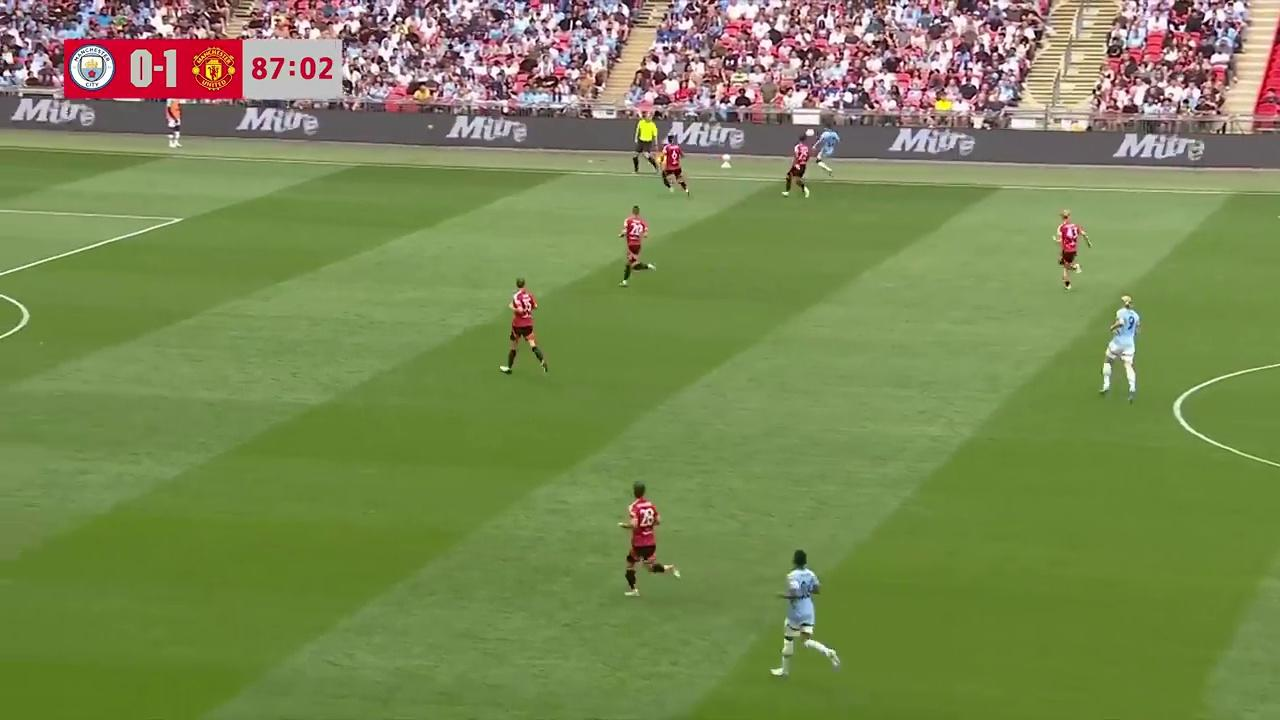player: (770, 548, 840, 677), (618, 482, 682, 597), (500, 278, 549, 377), (1105, 295, 1140, 388), (617, 204, 653, 287), (1053, 210, 1090, 289), (781, 139, 811, 198), (660, 139, 691, 195), (812, 128, 836, 177)
referee: (632, 108, 660, 176)
